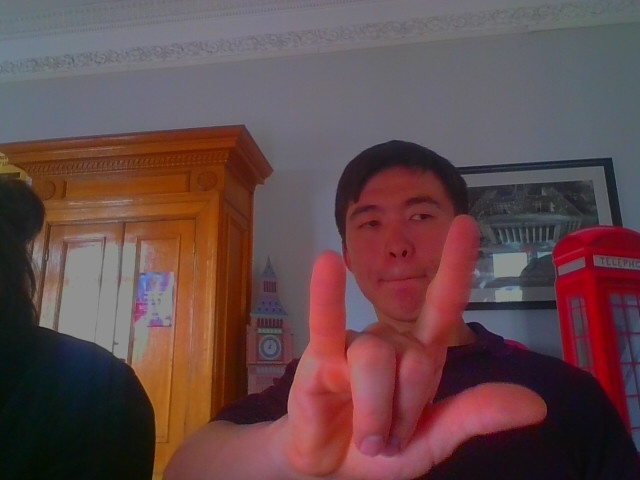Ilovu: (278, 205, 551, 470)
